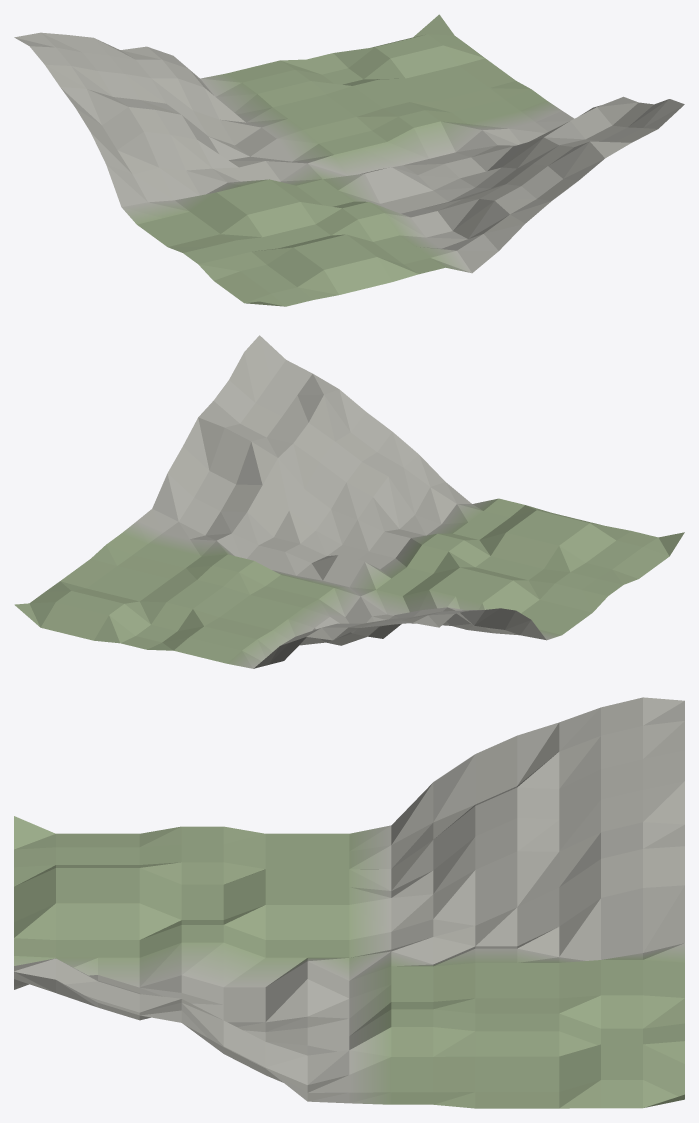
The picture shows the model from 3 angles, top to bottom: view 1: azimuth 30°, elevation 25°; view 2: azimuth 150°, elevation 25°; view 3: azimuth 270°, elevation 25°; orthographic projection. The views are drawn at different scales.
Size of the model in its own units: 32 by 8.42 by 32.
